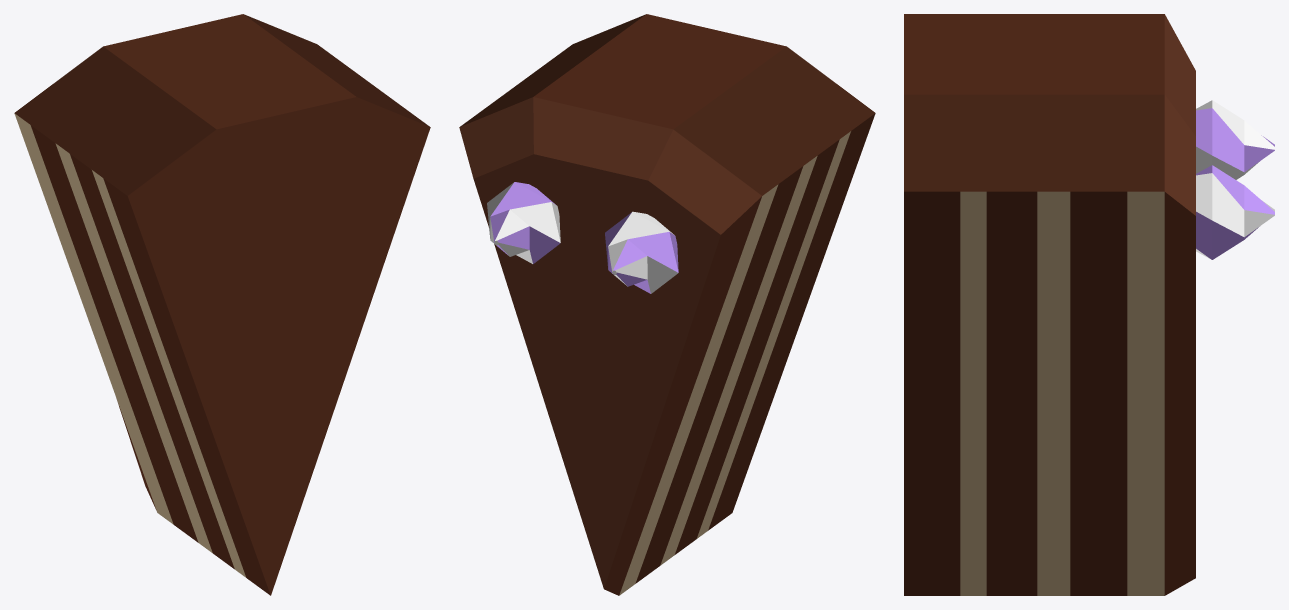
File: pink_cake_3.fbx
3 views of the same model, side by side, from view 1: azimuth 30°, elevation 25°; view 2: azimuth 150°, elevation 25°; view 3: azimuth 270°, elevation 25° (orthographic). The views are drawn at different scales.
Parts seen in each view (by area): view 1: pink_cake_3; view 2: pink_cake_3; view 3: pink_cake_3.
Part boxes in pixels (x1,y1,x2,y2): pink_cake_3: [14, 14, 430, 595]; pink_cake_3: [459, 14, 875, 595]; pink_cake_3: [904, 14, 1274, 595].
Size of the model in its own units: 186 by 282 by 172.
